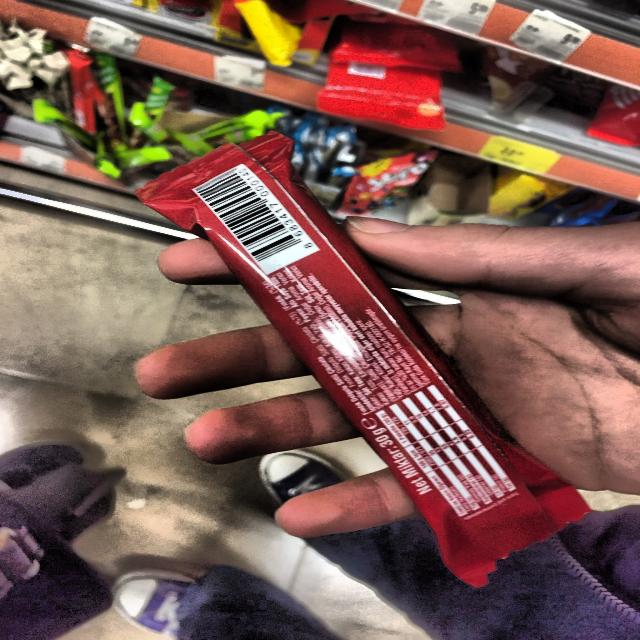Plastic: (128, 126, 615, 595)
